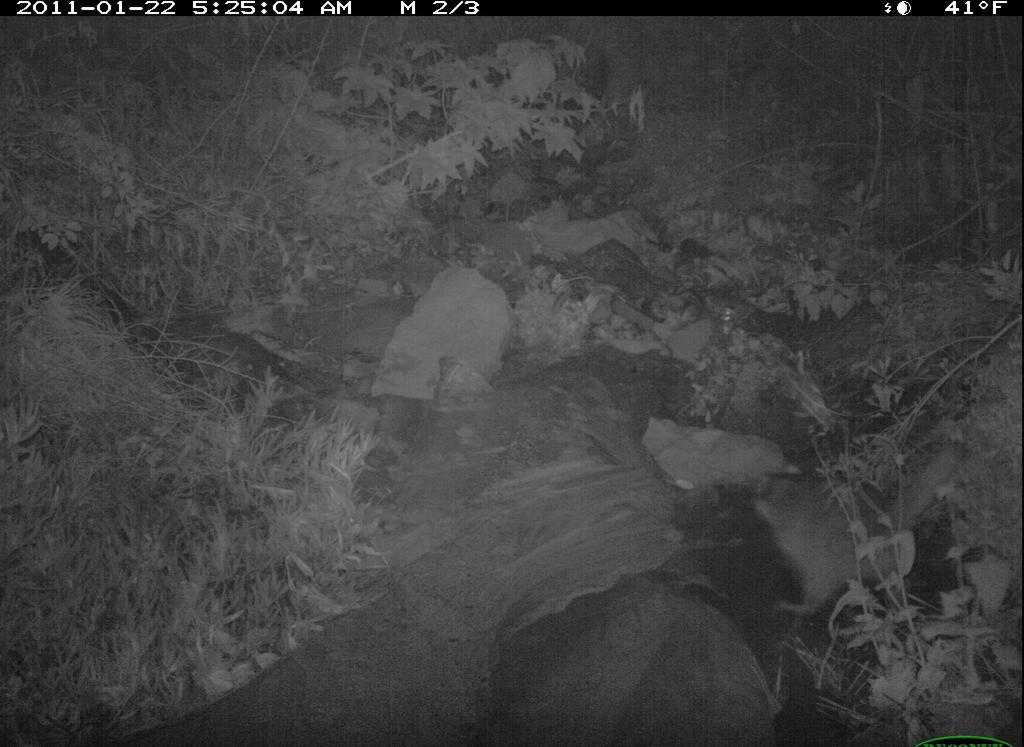raccoon: (742, 449, 964, 632)
